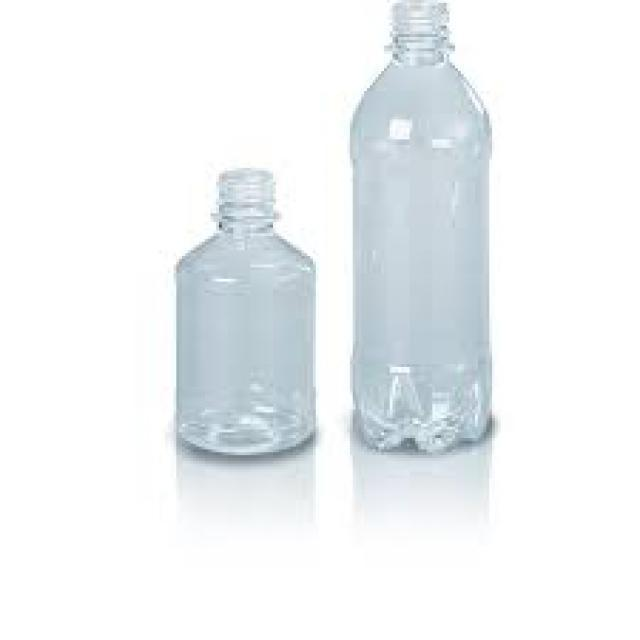Plastic: (346, 0, 496, 455), (170, 162, 320, 462)
